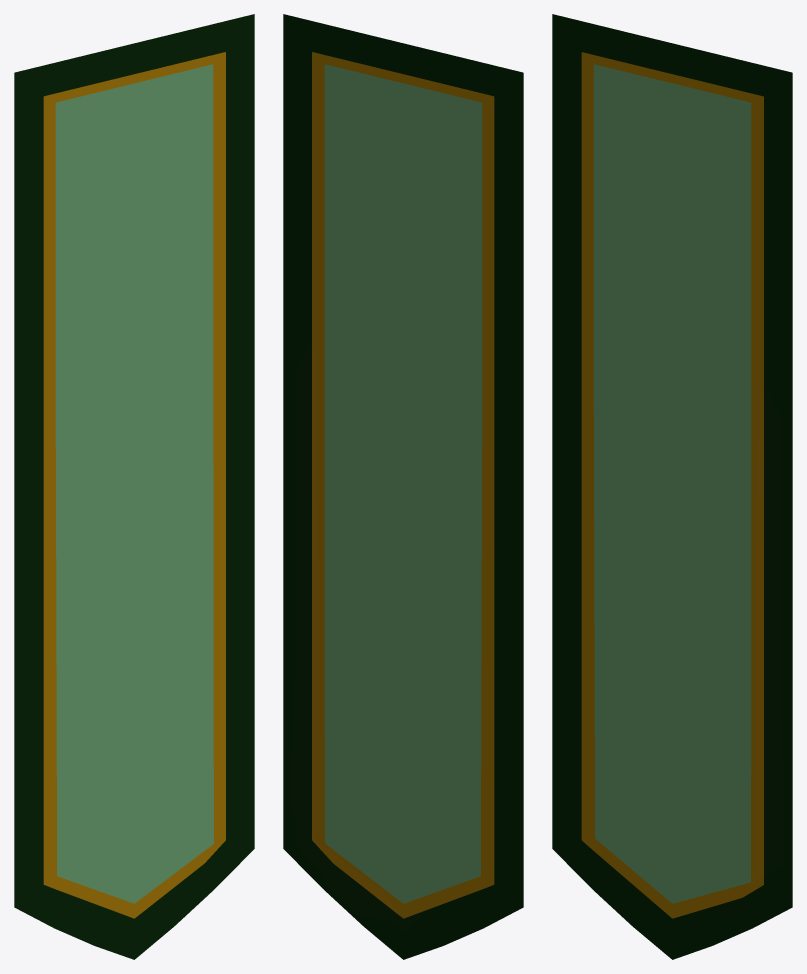
File: banner_green.fbx
The picture shows the model from 3 angles, left to right: view 1: azimuth 30°, elevation 25°; view 2: azimuth 150°, elevation 25°; view 3: azimuth 330°, elevation 25°; orthographic projection.
Parts seen in each view (by area): view 1: pPlane6; view 2: pPlane6; view 3: pPlane6.
Boxes of the visible parts, x1,y1,x2,y2 form: pPlane6: (14, 14, 254, 959); pPlane6: (283, 14, 523, 959); pPlane6: (552, 14, 792, 959).
Size of the model in its own units: 0.5088 by 1.85 by 0.0015.
